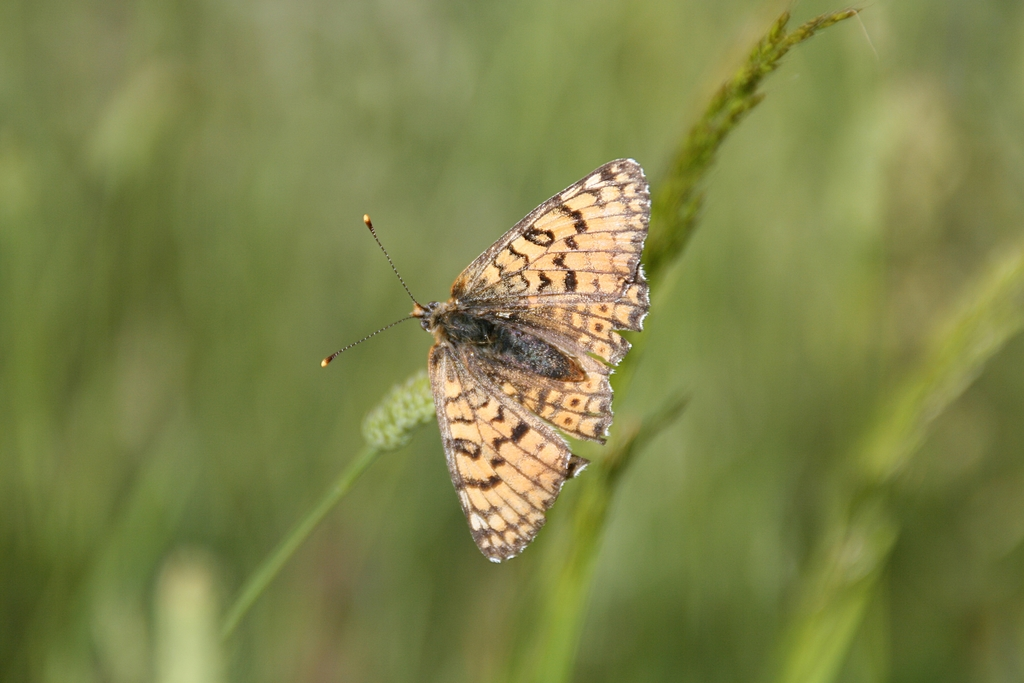Butterfly: (313, 143, 680, 570)
